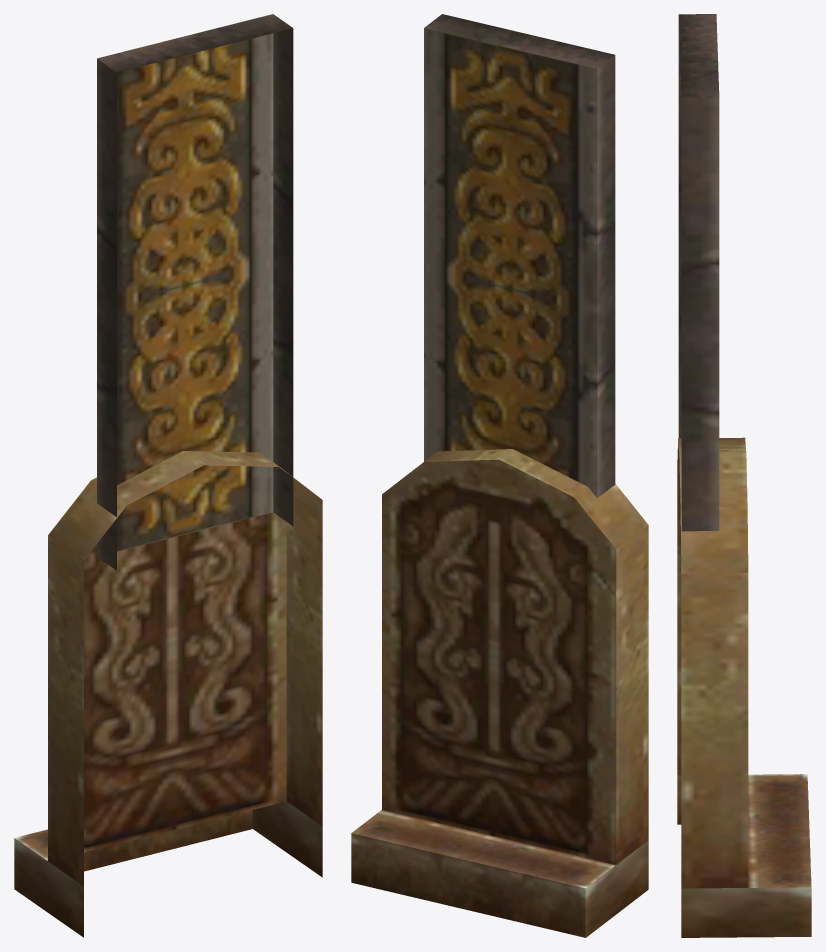
File: h5_chuanghu_02.FBX
The picture shows the model from 3 angles, left to right: view 1: azimuth 30°, elevation 25°; view 2: azimuth 150°, elevation 25°; view 3: azimuth 270°, elevation 25°; orthographic projection. The views are drawn at different scales.
Parts seen in each view (by area): view 1: h5_chuanghu_02; view 2: h5_chuanghu_02; view 3: h5_chuanghu_02.
Part boxes in pixels (x1,y1,x2,y2): h5_chuanghu_02: (14, 14, 322, 937); h5_chuanghu_02: (351, 14, 648, 937); h5_chuanghu_02: (677, 14, 811, 937).
Bounding box in the file's own units: 2.39 × 8.05 × 1.18.
Materials: 1 (1 with a texture image).
